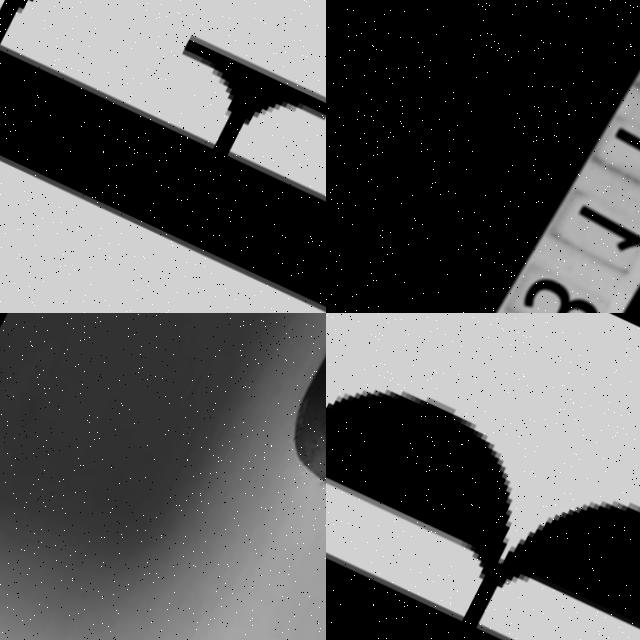1: (560, 195, 640, 277), (593, 116, 640, 204)
3: (511, 264, 621, 313)
B: (326, 389, 640, 640)
E: (0, 34, 326, 303)
